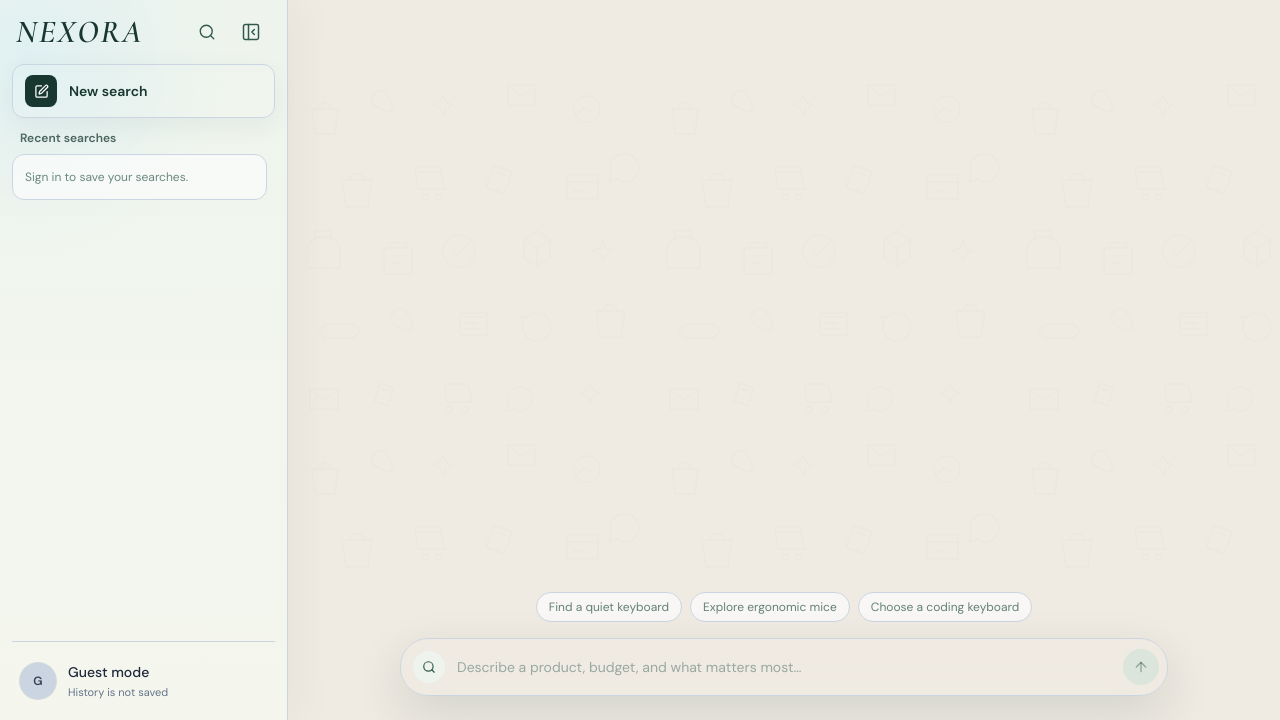
Test: live buyer search › copies and regenerates an assistant response from its preceding user message
Type "backpack under 6000" into the field named "Shopping intent". click: coordinates (784, 667)
box: [453, 647, 1115, 687]
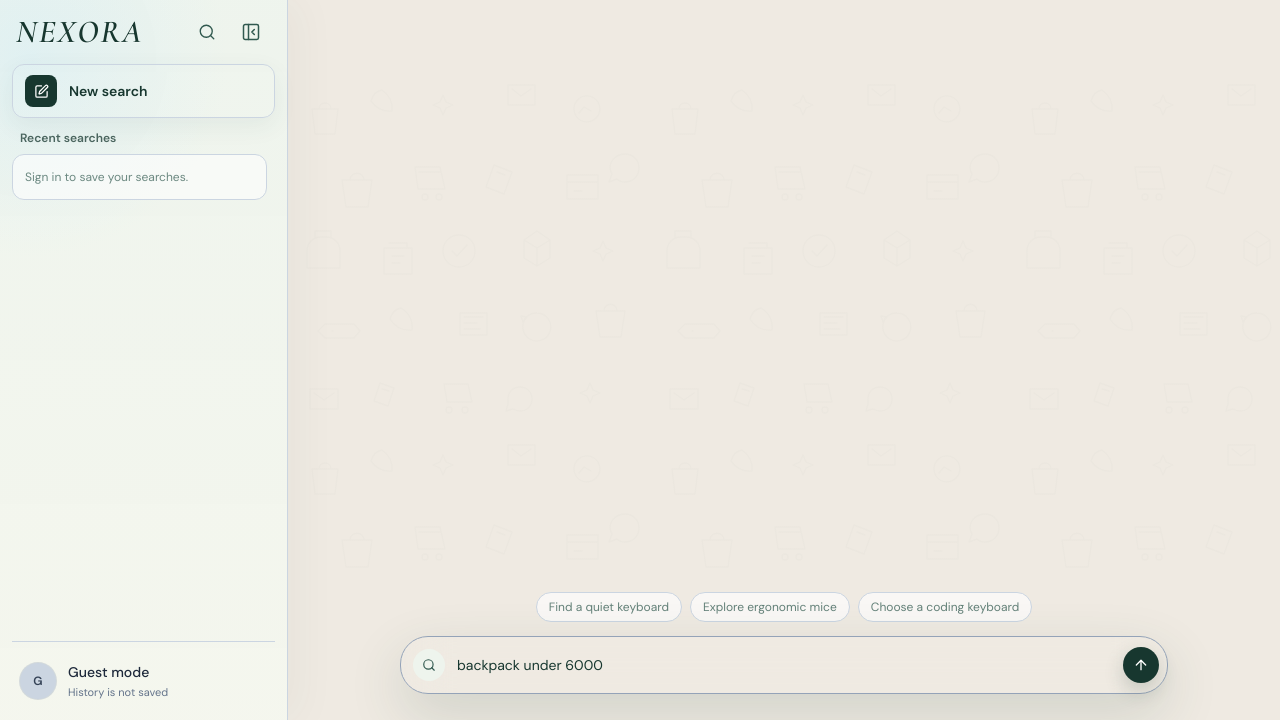
Click the button named "Send shopping intent". click: coordinates (1141, 665)
box: [1123, 647, 1159, 683]
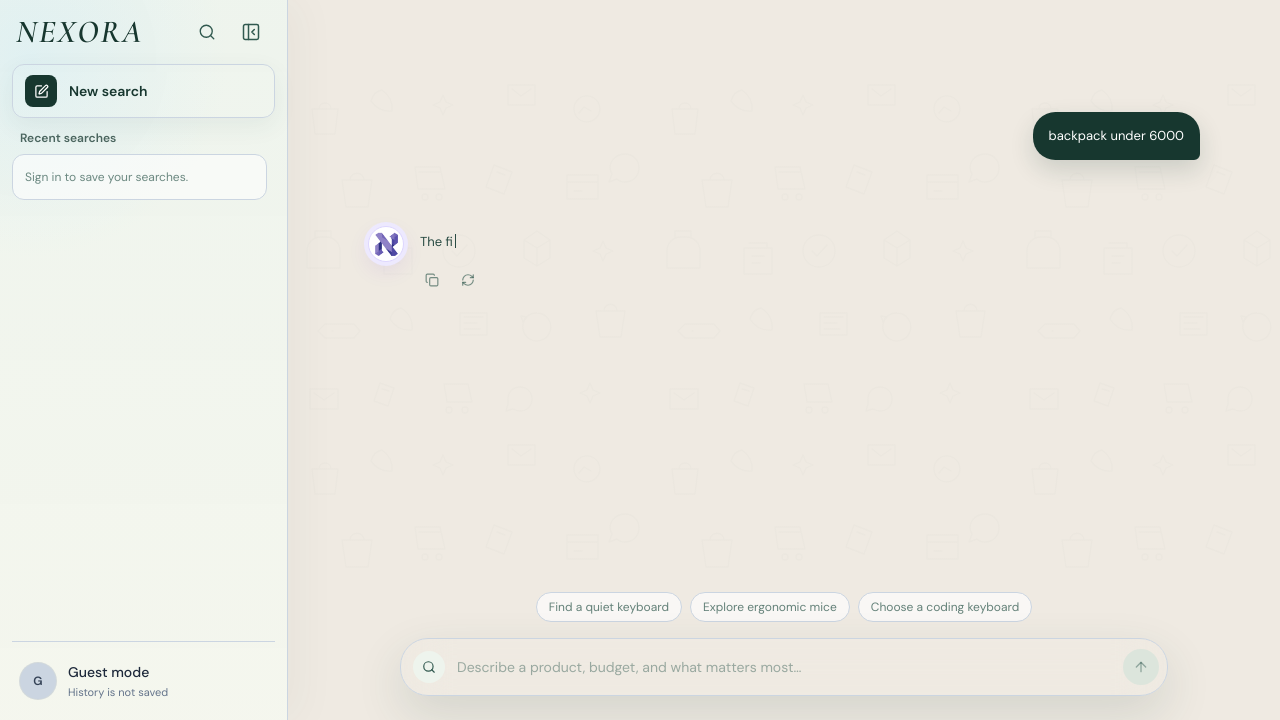
expect the text named "The first grounded answer." is shown: met, box [420, 233, 456, 250]
Click the button named "Copy response". click: coordinates (432, 280)
box: [416, 264, 448, 296]
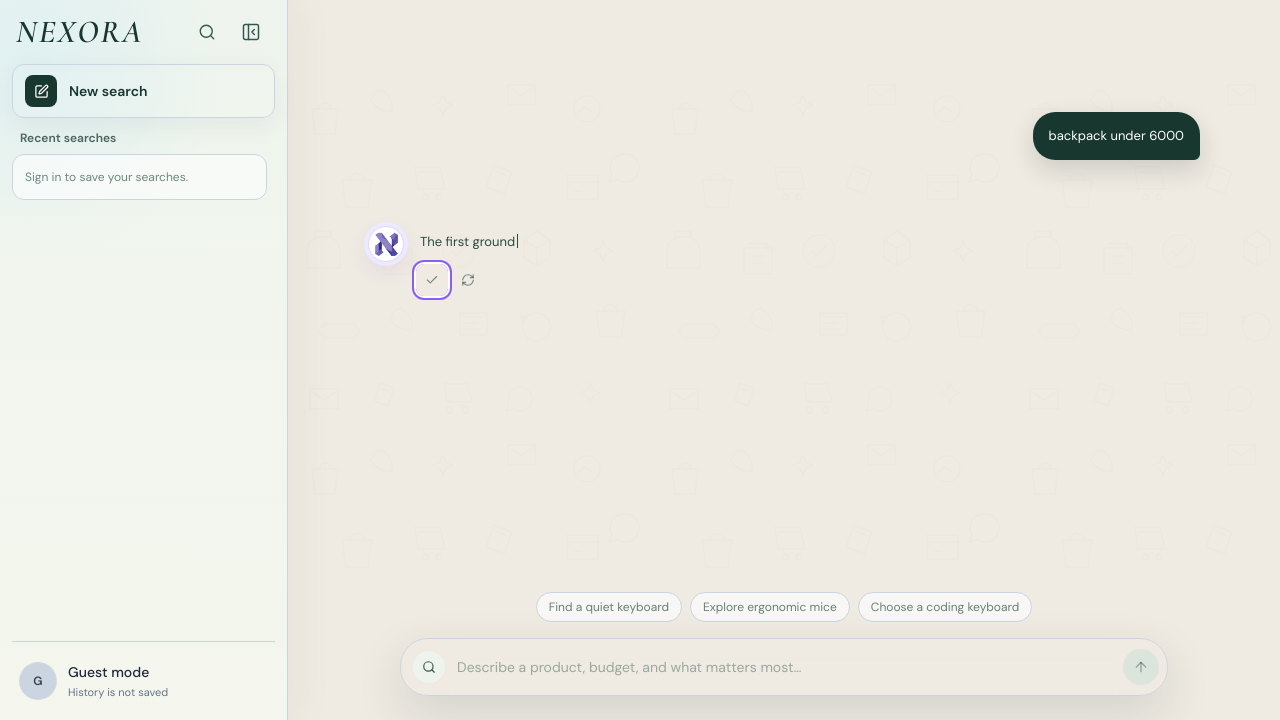
Click the button named "Regenerate response". click: coordinates (468, 280)
box: [452, 264, 484, 296]
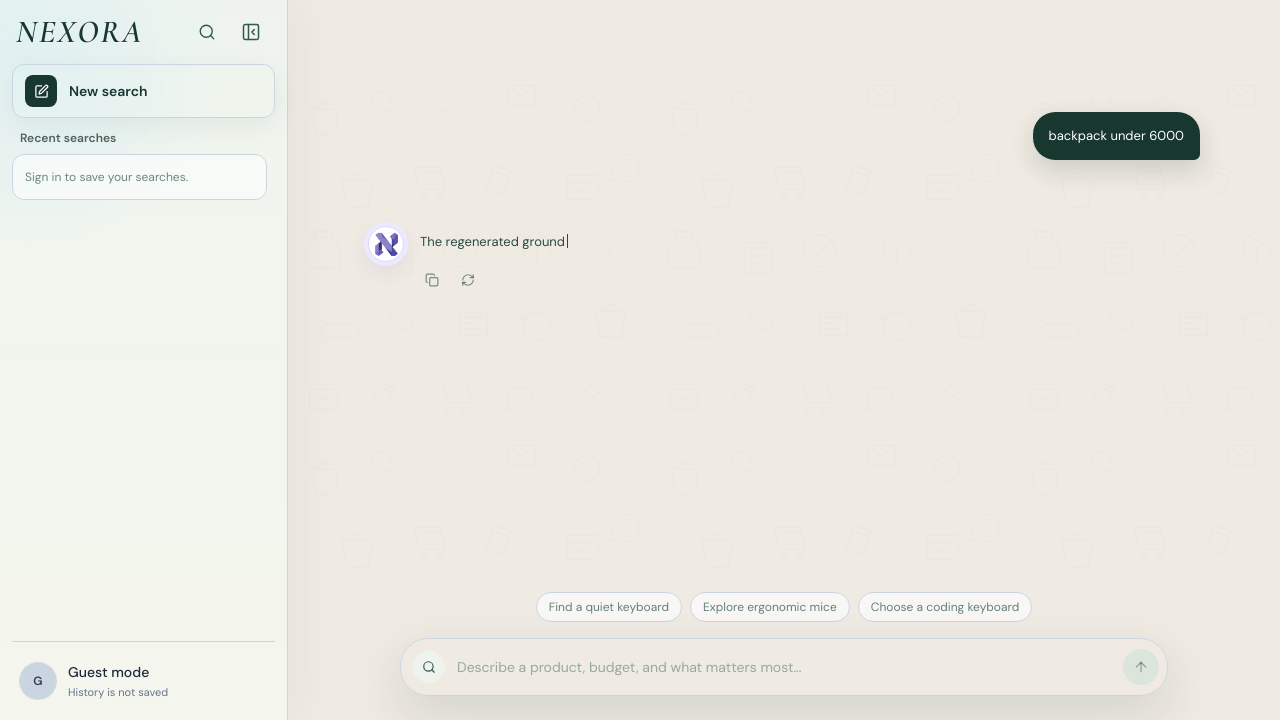
expect the text named "The regenerated grounded answer." is shown: met, box [420, 233, 568, 250]
